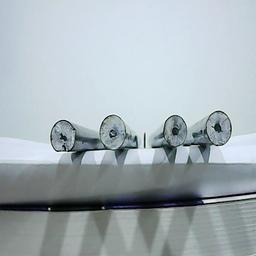pen: (49, 118, 75, 152), (99, 113, 125, 147), (162, 112, 188, 146), (206, 110, 232, 144)
